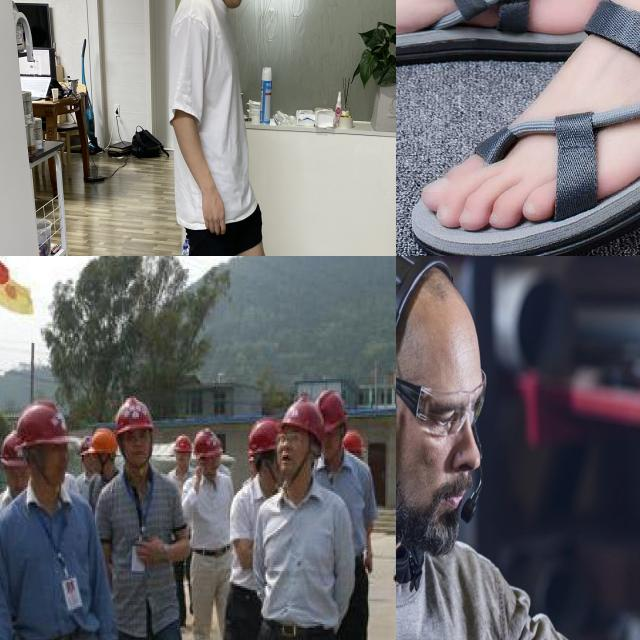Ear-protection: (396, 256, 497, 559)
Sandals: (407, 0, 640, 256), (396, 0, 604, 68)
face_nomask: (118, 426, 155, 466), (273, 430, 307, 471), (43, 439, 72, 483)
glasses: (271, 428, 305, 446)
hand_noglove: (134, 533, 170, 565)
head_helmet: (13, 396, 76, 450), (278, 390, 329, 439), (111, 393, 157, 434), (245, 416, 284, 454), (191, 426, 229, 459)
person: (0, 399, 113, 640), (251, 387, 354, 640), (97, 387, 198, 640)
